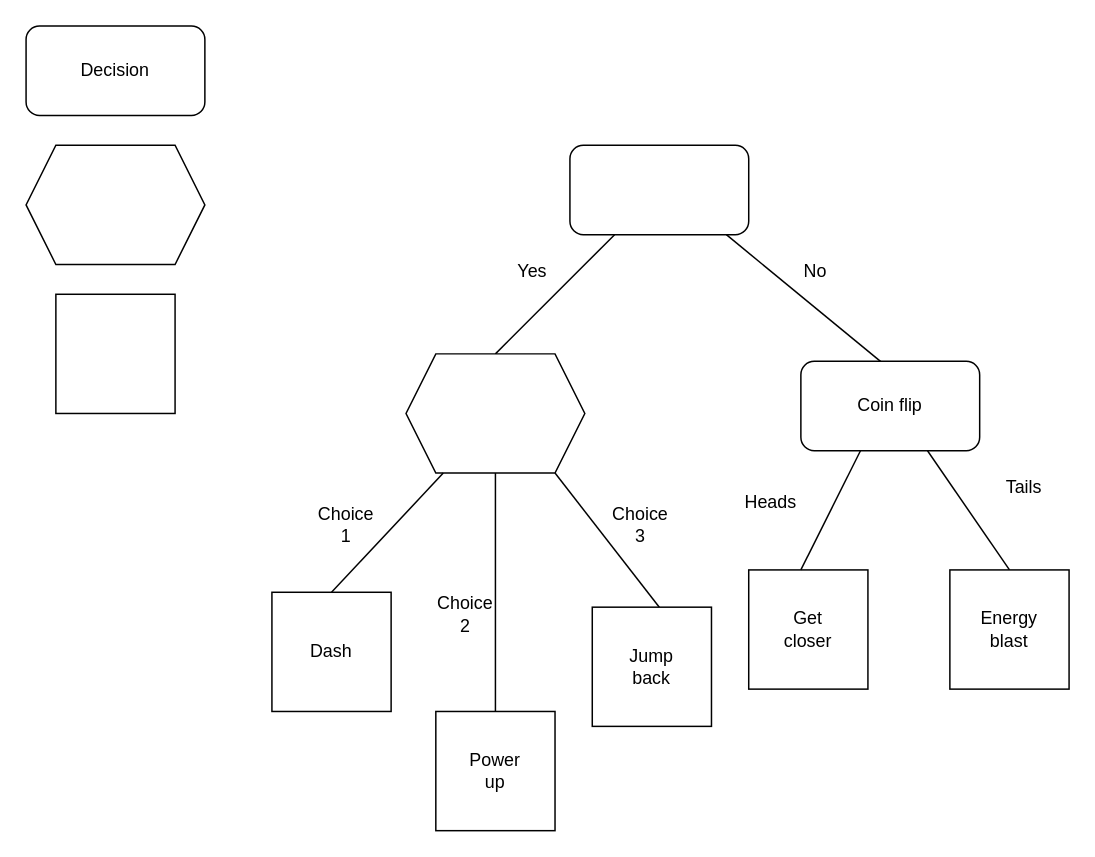
This 1095x857 diagram has some shape labels left out. The centre of each missing label's shape, as x and y in pixels:
"Action" goes at point (114, 353).
"Multiple Decisions" goes at point (115, 204).
"Random multiple decisions" goes at point (495, 412).
"Within Range" goes at point (658, 189).
